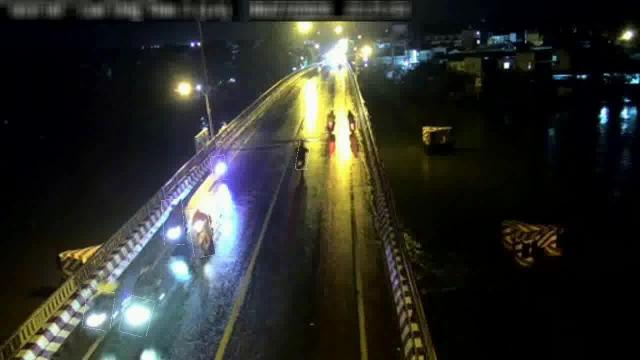Bike: (188, 207, 214, 257), (121, 296, 153, 336), (84, 290, 115, 330), (162, 199, 184, 245), (296, 140, 310, 170), (211, 156, 227, 180), (324, 109, 338, 135), (345, 109, 357, 135)
